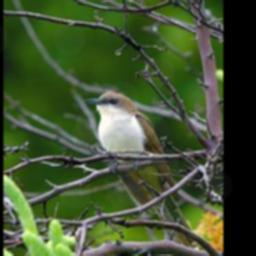Cuckoo: (89, 89, 201, 250)
